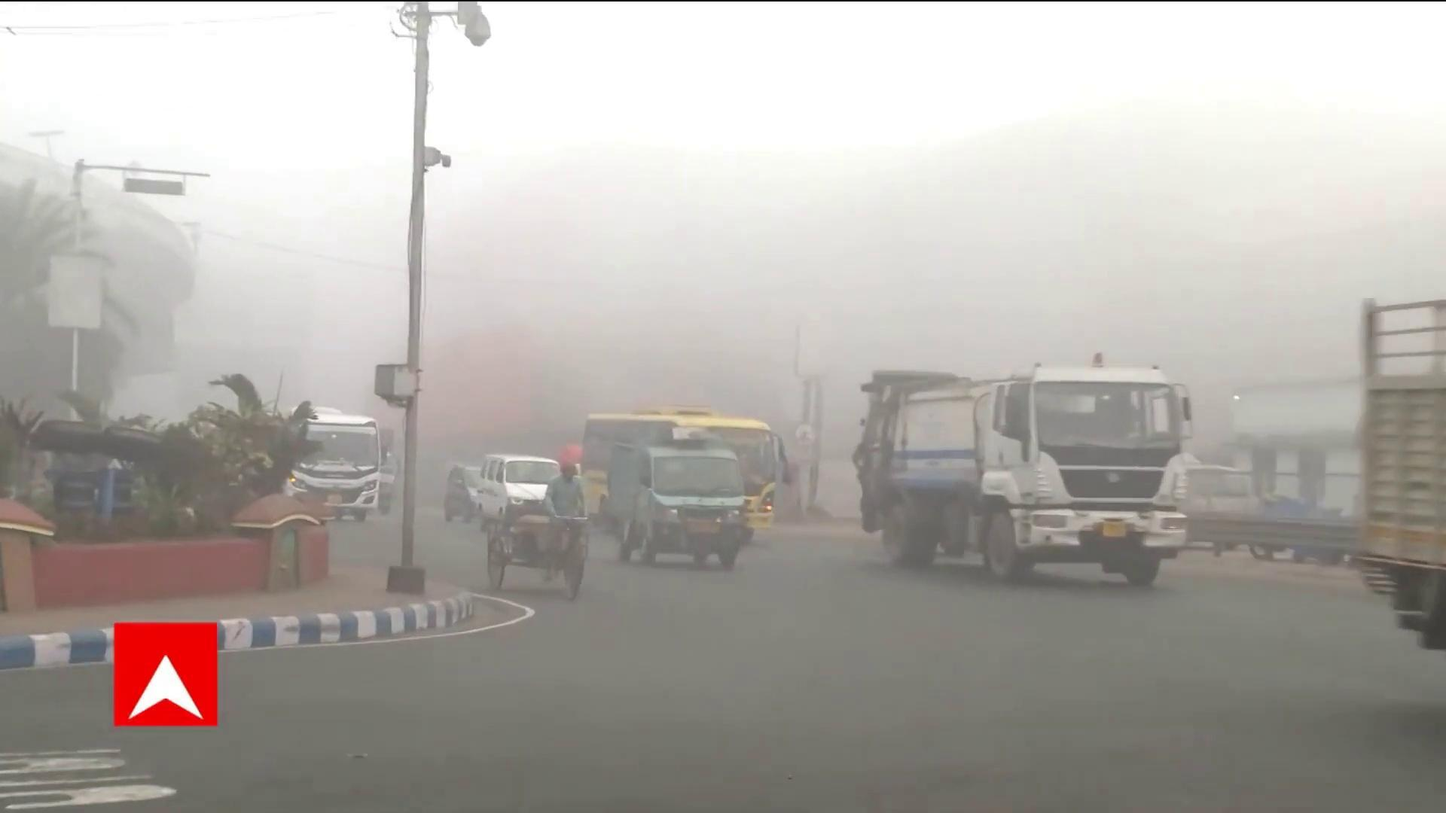Car: (480, 446, 571, 525)
Truck: (852, 362, 1195, 599), (599, 433, 748, 572)
